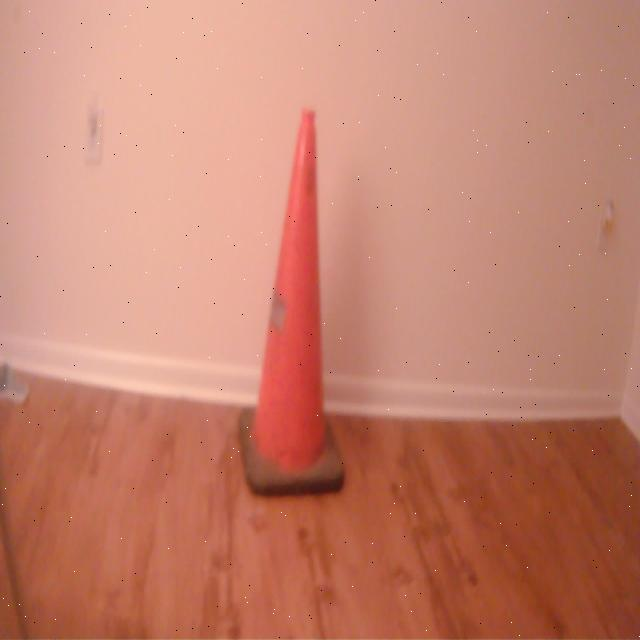traffic cone: (235, 106, 352, 504)
